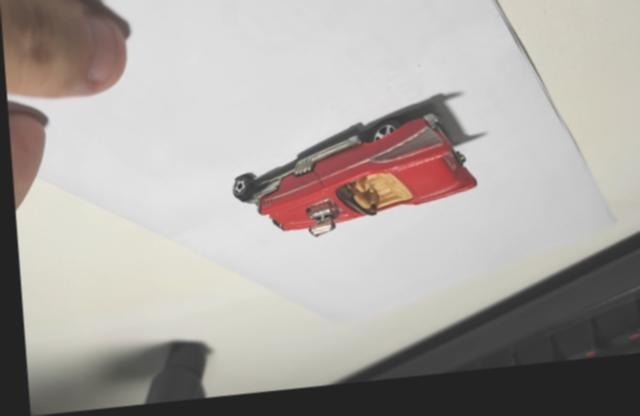03_V8: (231, 104, 479, 242)
